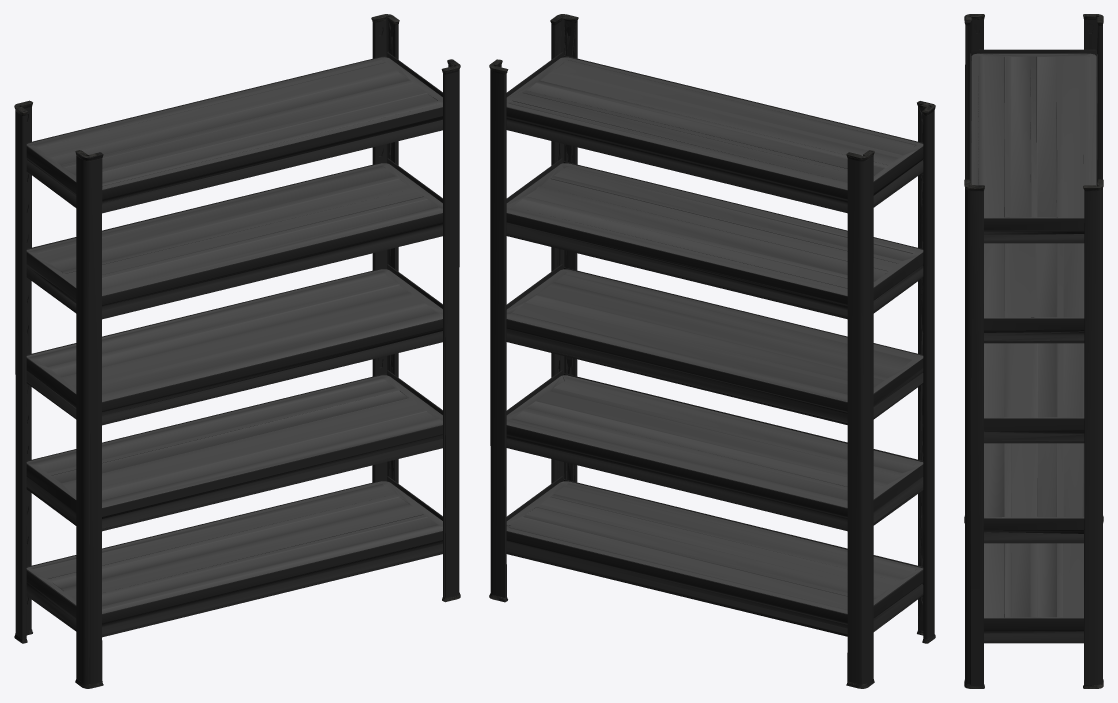
Rendered from simready-shelf-storage-basic.b4c23ba1.glb.
3 renders of one model, left to right at view 1: azimuth 30°, elevation 25°; view 2: azimuth 150°, elevation 25°; view 3: azimuth 270°, elevation 25°, orthographic. The views are drawn at different scales.
Parts seen in each view (by area): view 1: model; view 2: model; view 3: model.
Part boxes in pixels (x1=…): model: x1=14, y1=14, x2=460, y2=688; model: x1=489, y1=14, x2=935, y2=688; model: x1=964, y1=14, x2=1103, y2=688.
Size of the model in its own units: 1.51 by 2.03 by 0.5119.
3 materials, 1 textured.
